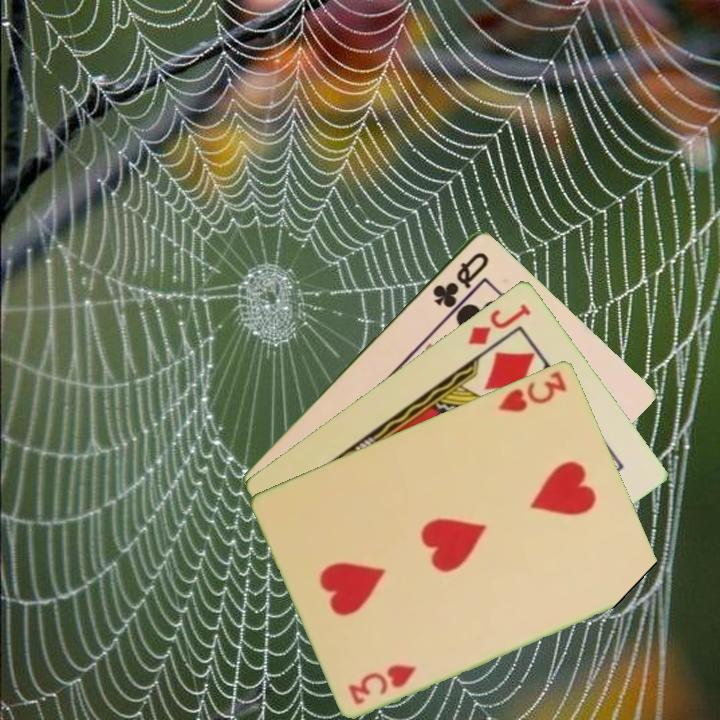3h: (495, 367, 570, 415), (345, 660, 419, 707)
Jd: (464, 299, 534, 348)
Qc: (429, 247, 492, 311)
